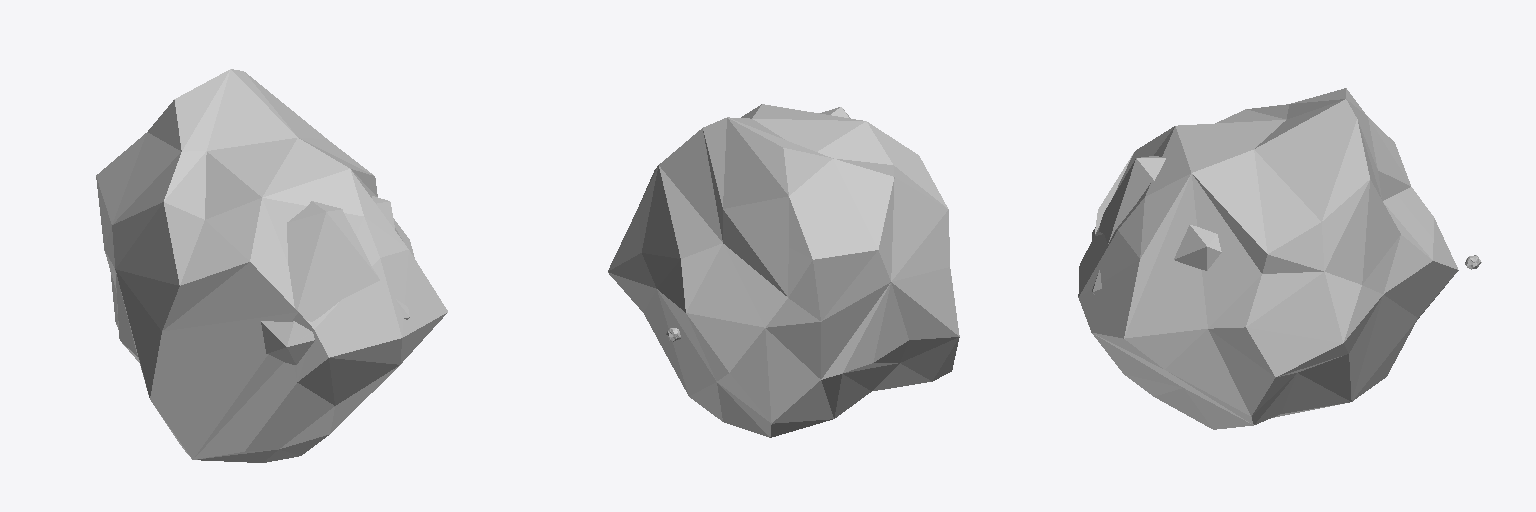
File: kamen.obj
The picture shows the model from 3 angles: view 1: azimuth 30°, elevation 25°; view 2: azimuth 150°, elevation 25°; view 3: azimuth 270°, elevation 25°; orthographic projection.
Parts seen in each view (by area): view 1: Object.2; view 2: Object.2; view 3: Object.2.
Boxes of the visible parts, x1=… form: Object.2: x1=96, y1=69, x2=447, y2=462; Object.2: x1=608, y1=104, x2=959, y2=437; Object.2: x1=1078, y1=88, x2=1458, y2=429.
Bounding box in the file's own units: 242 × 250 × 284.